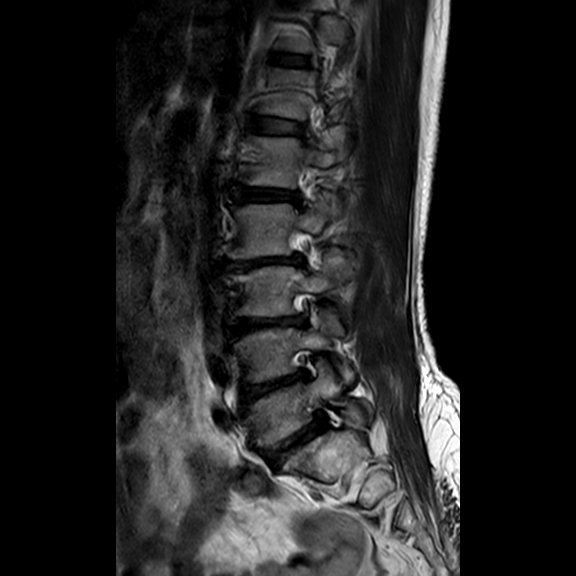RFS0: (277, 224, 330, 281), (279, 285, 330, 337)
RFS1: (281, 340, 328, 394)
